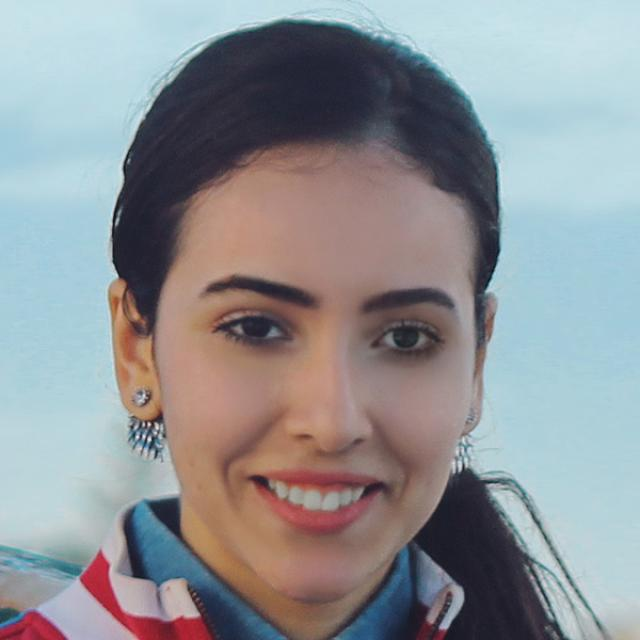face: (92, 40, 503, 604)
